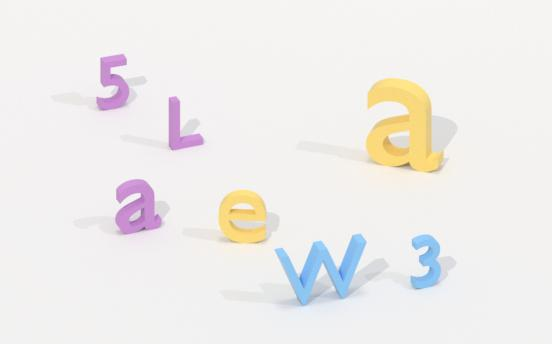3: (407, 232, 446, 292)
5: (92, 53, 136, 112)
a: (358, 77, 444, 175), (112, 177, 165, 234)
e: (216, 189, 272, 246)
l: (164, 93, 212, 152)
w: (273, 233, 369, 308)
